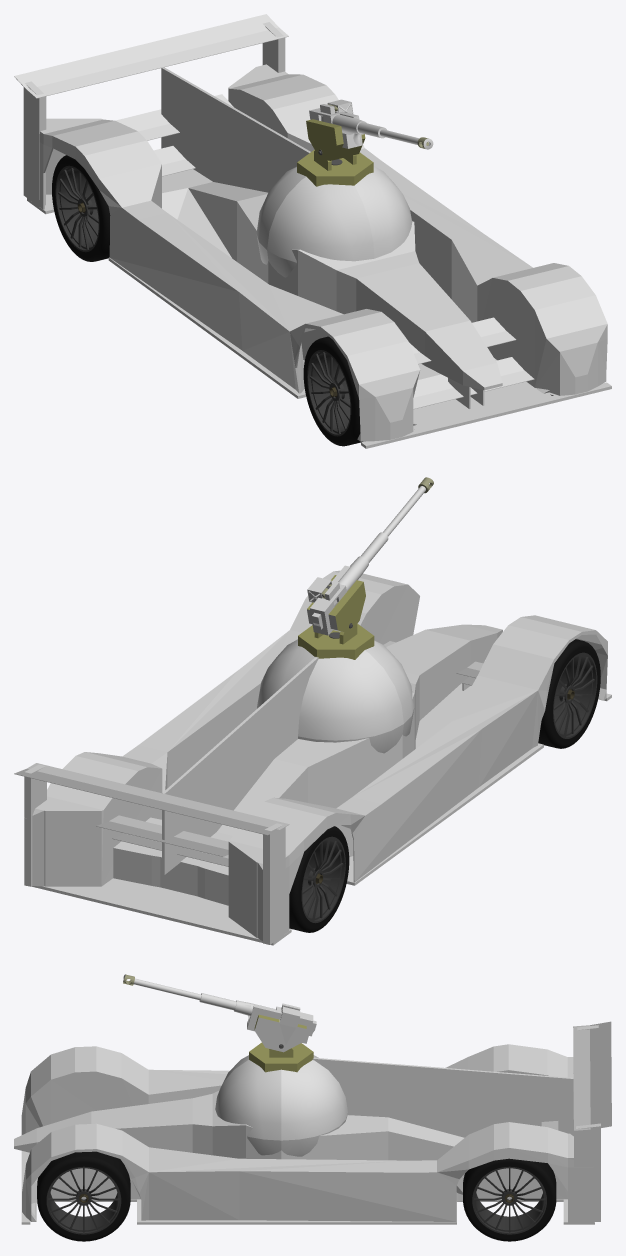
Rendered from Strawberry_car.obj.
3 renders of one model, top to bottom at view 1: azimuth 30°, elevation 25°; view 2: azimuth 150°, elevation 25°; view 3: azimuth 270°, elevation 25°, orthographic. The views are drawn at different scales.
Parts seen in each view (by area): view 1: Mesh23 Left_Aero2 Model, Mesh22 Left_Aero1 Model, Mesh122 Monocoque1 Model, Mesh33 Tail_Fin1 Model, Mesh123 Monocoque_1_1 Model, Mesh31 Rear_Wing1 Model, Mesh4 triangulated_sphere2 Triangulated_sphere_1_1 Model, Mesh1 Floor1 Model, Mesh19 Group2 Artillery_Cannon1 Model, Mesh3 triangulated_sphere1 Triangulated_sphere_1_1 Model, Mesh104 vordere_Felge4 Vorderrad_2_4 Model, Mesh85 vordere_Felge3 Vorderrad_2_3 Model (+10 smaller); view 2: Mesh23 Left_Aero2 Model, Mesh22 Left_Aero1 Model, Mesh122 Monocoque1 Model, Mesh33 Tail_Fin1 Model, Mesh1 Floor1 Model, Mesh2 Chigirinsky Triangulated_sphere_1_1 Model, Mesh123 Monocoque_1_1 Model, Mesh31 Rear_Wing1 Model, Mesh19 Group2 Artillery_Cannon1 Model, Mesh104 vordere_Felge4 Vorderrad_2_4 Model, Mesh85 vordere_Felge3 Vorderrad_2_3 Model, Mesh30 RW_support2 Model (+10 smaller); view 3: Mesh22 Left_Aero1 Model, Mesh33 Tail_Fin1 Model, Mesh23 Left_Aero2 Model, Mesh122 Monocoque1 Model, Mesh123 Monocoque_1_1 Model, Mesh9 triangulated_sphere7 Triangulated_sphere_1_1 Model, Mesh31 Rear_Wing1 Model, Mesh3 triangulated_sphere1 Triangulated_sphere_1_1 Model, Mesh19 Group2 Artillery_Cannon1 Model, Mesh46 vorderer_Pneu1 Vorderrad_2_1 Model, Mesh47 vordere_Felge1 Vorderrad_2_1 Model, Mesh66 vordere_Felge2 Vorderrad_2_2 Model (+7 smaller).
Boxes of the visible parts, bbox=[...] form: Mesh23 Left_Aero2 Model: bbox=[39, 118, 420, 441]; Mesh22 Left_Aero1 Model: bbox=[228, 64, 607, 395]; Mesh122 Monocoque1 Model: bbox=[162, 169, 502, 390]; Mesh33 Tail_Fin1 Model: bbox=[161, 67, 310, 192]; Mesh123 Monocoque_1_1 Model: bbox=[162, 169, 502, 389]; Mesh31 Rear_Wing1 Model: bbox=[14, 14, 288, 98]; Mesh4 triangulated_sphere2 Triangulated_sphere_1_1 Model: bbox=[267, 176, 374, 262]; Mesh1 Floor1 Model: bbox=[27, 194, 611, 448]; Mesh19 Group2 Artillery_Cannon1 Model: bbox=[306, 99, 433, 160]; Mesh3 triangulated_sphere1 Triangulated_sphere_1_1 Model: bbox=[354, 166, 411, 258]; Mesh104 vordere_Felge4 Vorderrad_2_4 Model: bbox=[55, 165, 99, 252]; Mesh85 vordere_Felge3 Vorderrad_2_3 Model: bbox=[307, 350, 351, 436]; Mesh23 Left_Aero2 Model: bbox=[228, 615, 607, 941]; Mesh22 Left_Aero1 Model: bbox=[24, 570, 419, 886]; Mesh122 Monocoque1 Model: bbox=[113, 624, 502, 905]; Mesh33 Tail_Fin1 Model: bbox=[162, 657, 318, 874]; Mesh1 Floor1 Model: bbox=[32, 683, 611, 945]; Mesh2 Chigirinsky Triangulated_sphere_1_1 Model: bbox=[298, 650, 403, 740]; Mesh123 Monocoque_1_1 Model: bbox=[113, 625, 500, 905]; Mesh31 Rear_Wing1 Model: bbox=[14, 763, 289, 835]; Mesh19 Group2 Artillery_Cannon1 Model: bbox=[307, 477, 433, 635]; Mesh104 vordere_Felge4 Vorderrad_2_4 Model: bbox=[301, 836, 345, 923]; Mesh85 vordere_Felge3 Vorderrad_2_3 Model: bbox=[553, 652, 597, 738]; Mesh30 RW_support2 Model: bbox=[263, 823, 285, 944]; Mesh22 Left_Aero1 Model: bbox=[22, 1122, 593, 1222]; Mesh33 Tail_Fin1 Model: bbox=[312, 1057, 573, 1137]; Mesh23 Left_Aero2 Model: bbox=[21, 1044, 573, 1134]; Mesh122 Monocoque1 Model: bbox=[14, 1091, 464, 1201]; Mesh123 Monocoque_1_1 Model: bbox=[14, 1091, 462, 1200]; Mesh9 triangulated_sphere7 Triangulated_sphere_1_1 Model: bbox=[281, 1060, 347, 1140]; Mesh31 Rear_Wing1 Model: bbox=[573, 1021, 611, 1131]; Mesh3 triangulated_sphere1 Triangulated_sphere_1_1 Model: bbox=[215, 1060, 281, 1140]; Mesh19 Group2 Artillery_Cannon1 Model: bbox=[123, 974, 316, 1052]; Mesh46 vorderer_Pneu1 Vorderrad_2_1 Model: bbox=[37, 1151, 130, 1241]; Mesh47 vordere_Felge1 Vorderrad_2_1 Model: bbox=[46, 1166, 121, 1234]; Mesh66 vordere_Felge2 Vorderrad_2_2 Model: bbox=[472, 1166, 546, 1234].
Size of the model in its own units: 1.85 by 1.8 by 4.48.
